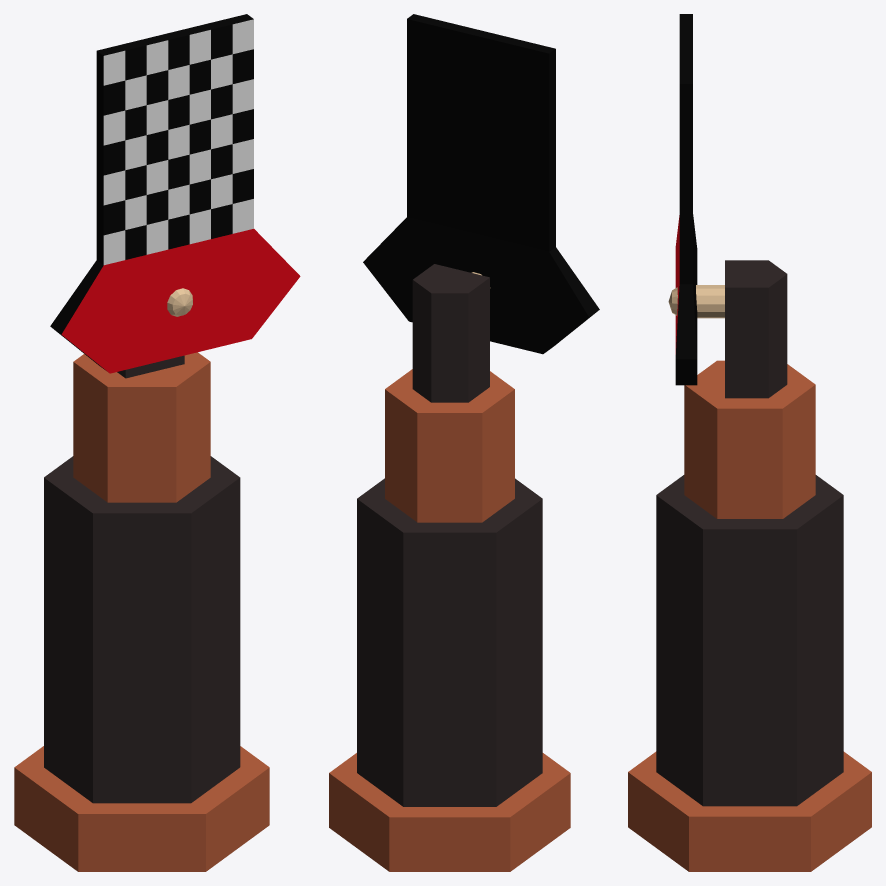
File: checkpoint.fbx
3 views of the same model, side by side, from view 1: azimuth 30°, elevation 25°; view 2: azimuth 150°, elevation 25°; view 3: azimuth 270°, elevation 25° (orthographic). The views are drawn at different scales.
Visible parts, largest first — view 1: Circle, Cube; view 2: Circle, Cube; view 3: Circle, Cube.
Boxes of the visible parts, box(x1,y1,x2,y2) form: Circle: box(14, 288, 269, 871); Cube: box(50, 14, 300, 373); Circle: box(329, 264, 570, 871); Cube: box(363, 14, 599, 354); Circle: box(628, 260, 871, 871); Cube: box(675, 14, 697, 385).
Bounding box in the file's own units: 216 × 704 × 200.
